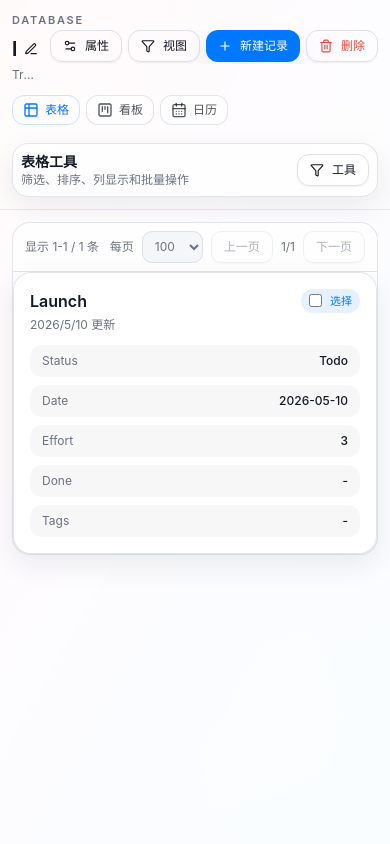
Scenario: DatabasePage › keeps mobile table cards selectable for batch workflows
Step 1. Click the checkbox named "select-record-mobile-note-1" → (316, 301), box [309,294,322,307]
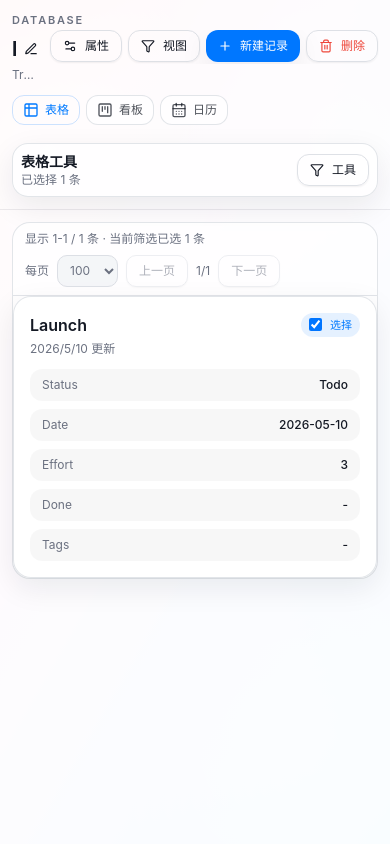
expect the text "已选择 1 条" is shown: met, box [21,172,81,188]
